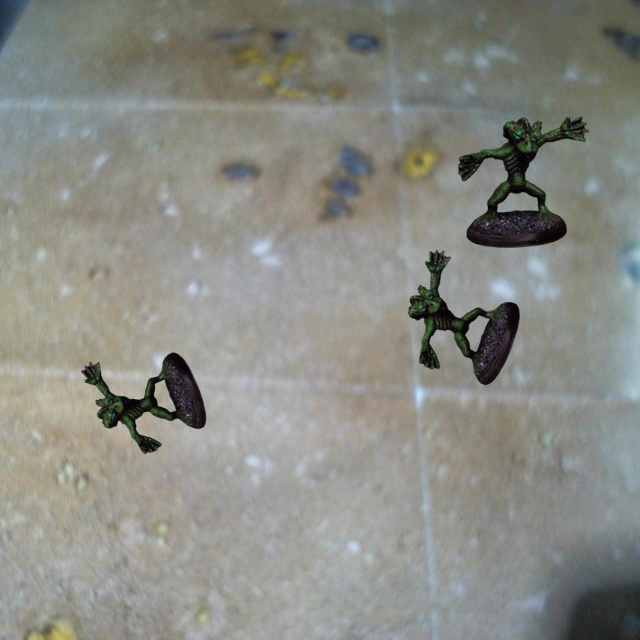pieza_juego: (458, 116, 588, 247), (408, 250, 519, 384), (81, 352, 205, 453)
